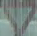Give way: (2, 2, 35, 35)
